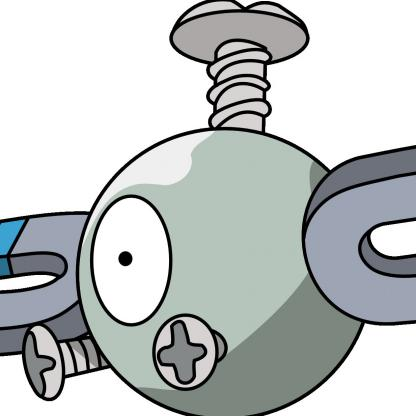Magnemite: (1, 1, 416, 416)
